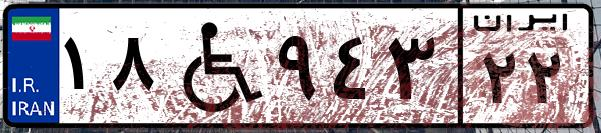1: (57, 26, 110, 100)
2: (475, 38, 525, 113), (525, 38, 570, 115)
3: (385, 28, 445, 110)
4: (330, 28, 385, 110)
8: (110, 28, 158, 98)
9: (270, 28, 330, 110)
ژ (معلولین و جانبازان): (158, 12, 270, 120)
